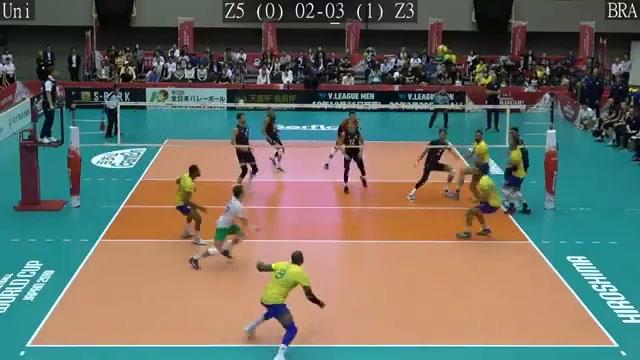ball: (437, 45, 450, 56)
